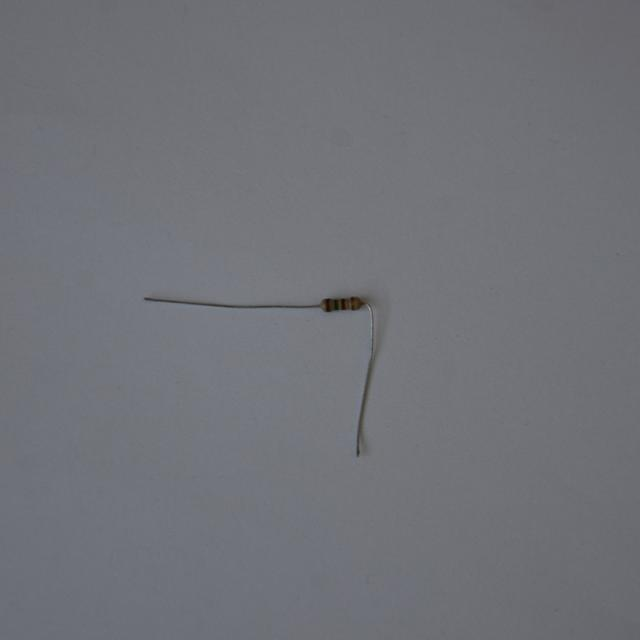brown: (325, 299, 331, 310), (341, 300, 345, 309)
gold: (350, 296, 355, 309)
green: (334, 299, 339, 310)
resistor: (317, 290, 369, 321)
